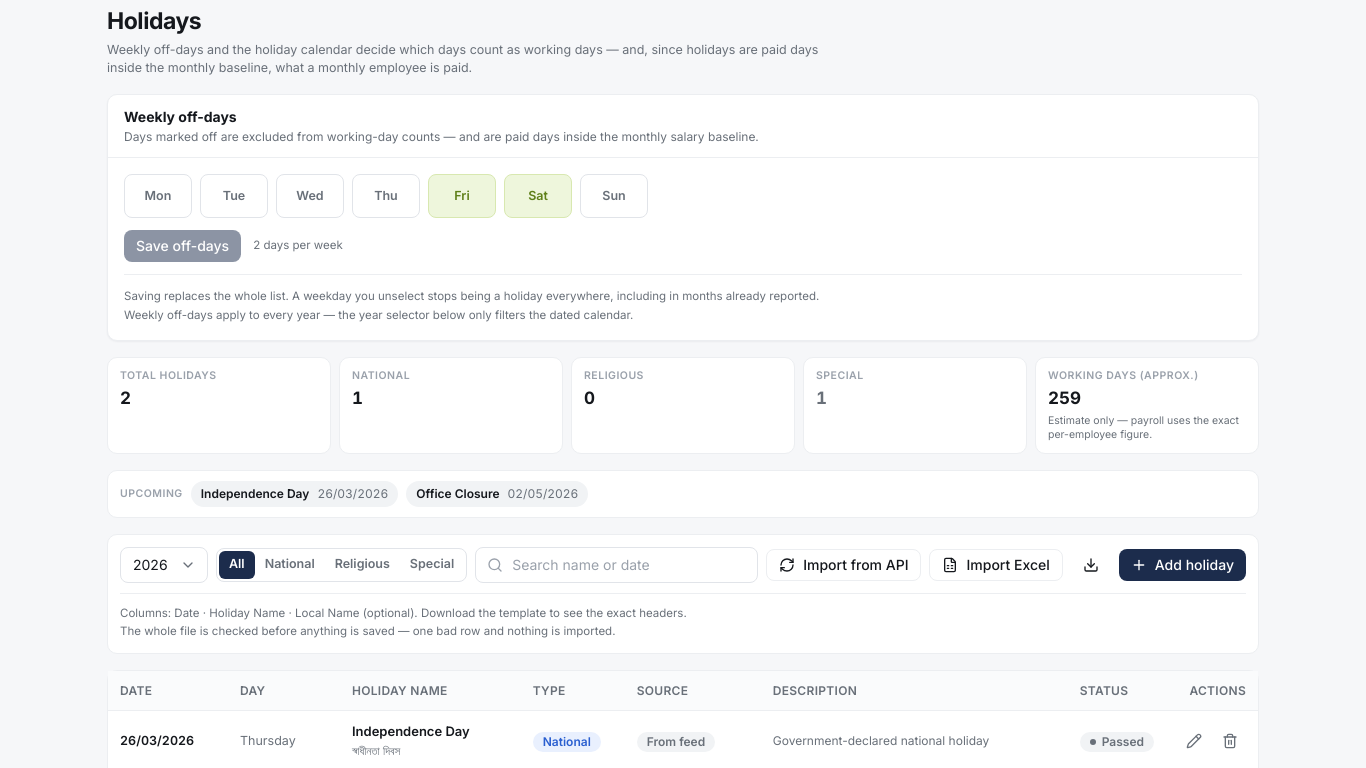
Test: weekly off-days panel › re-seeds the toggles from the server's normalised response, not the sent list
Expected: the button with aria-label "Friday" is shown, [428,174,496,218]
Click the button with aria-label "Monday": {"x": 158, "y": 196} [124,174,192,218]
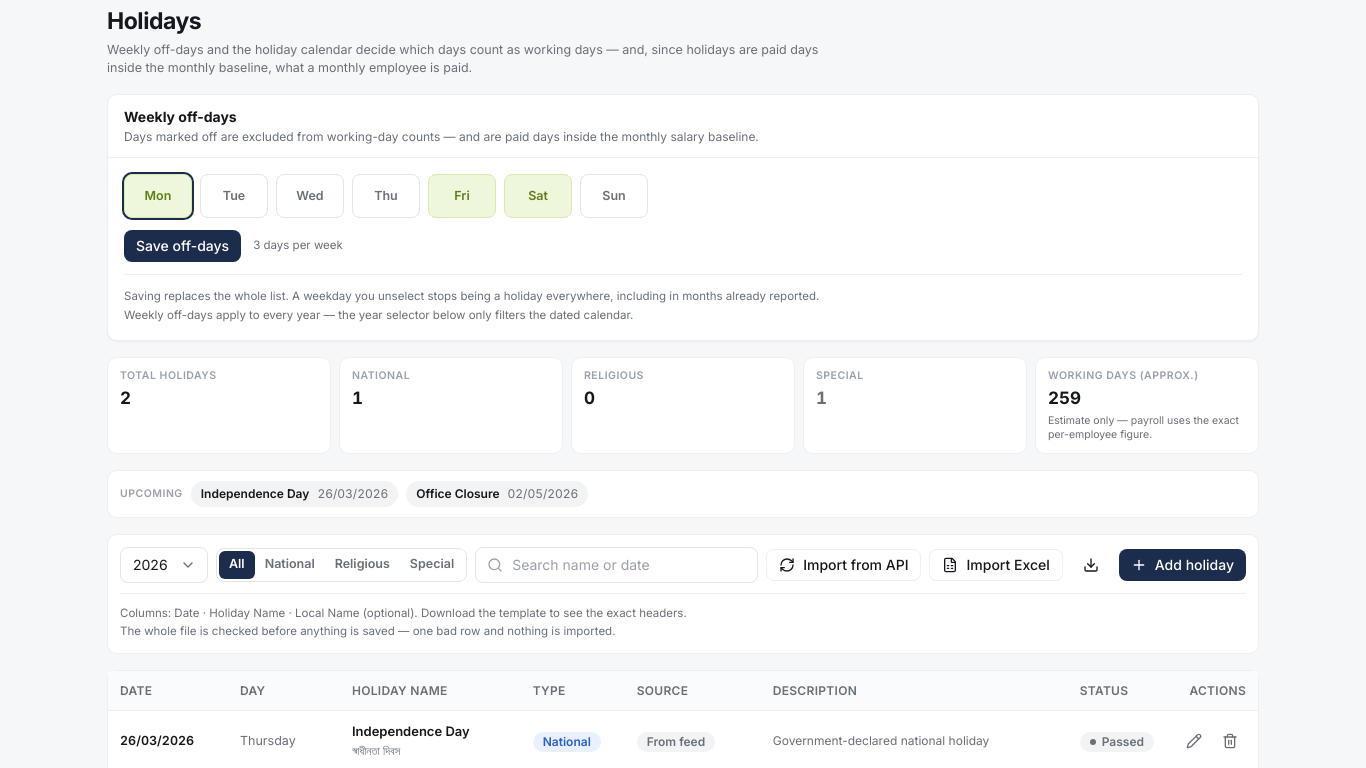
Click the button "Save off-days": {"x": 183, "y": 246} [124,230,241,262]
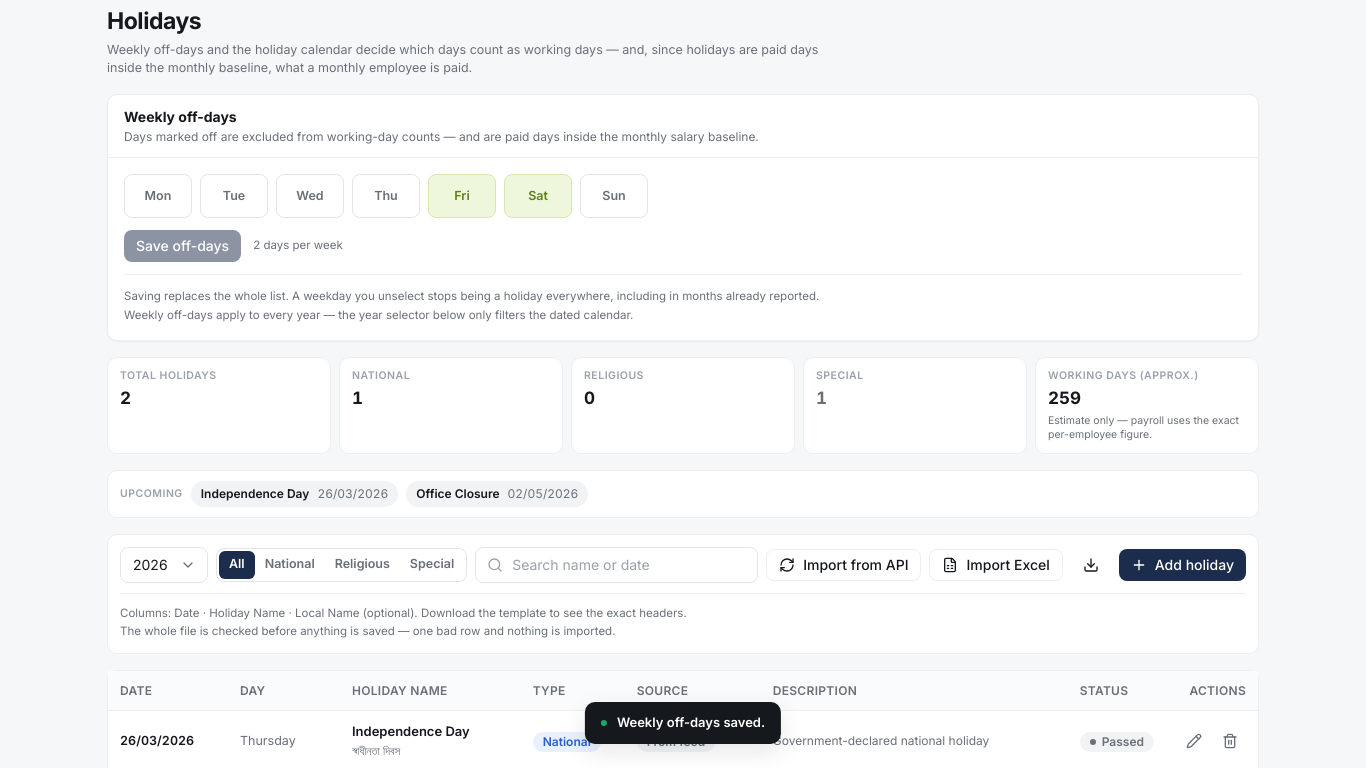
Expected: the text "2 days per week" is shown, [253,237,343,255]
